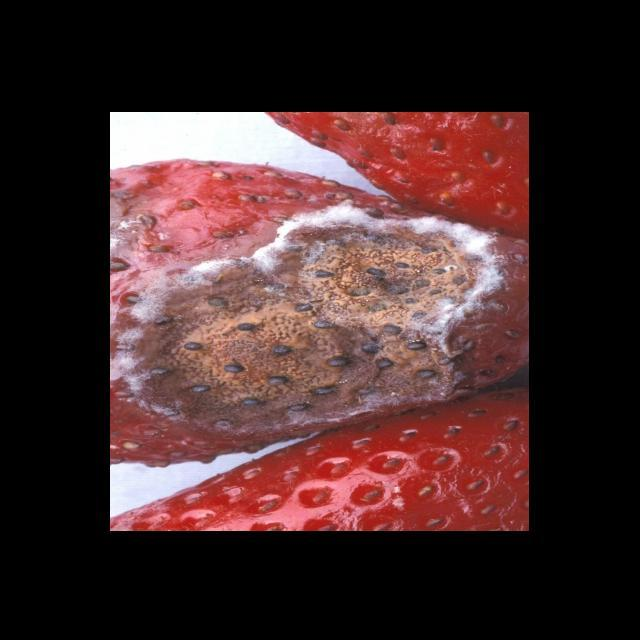Anthracnose Fruit Rot: (111, 182, 528, 457)
